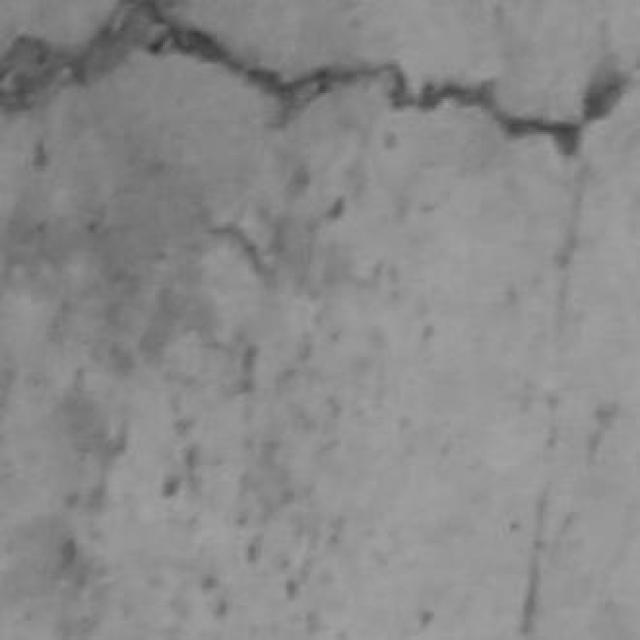crack: (0, 0, 628, 155), (520, 394, 560, 638), (520, 396, 558, 638)
